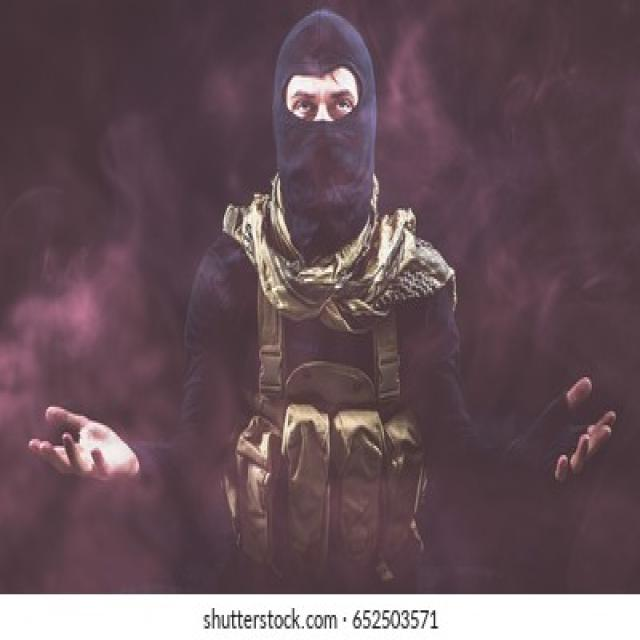6_pasamontana: (271, 6, 378, 240)
